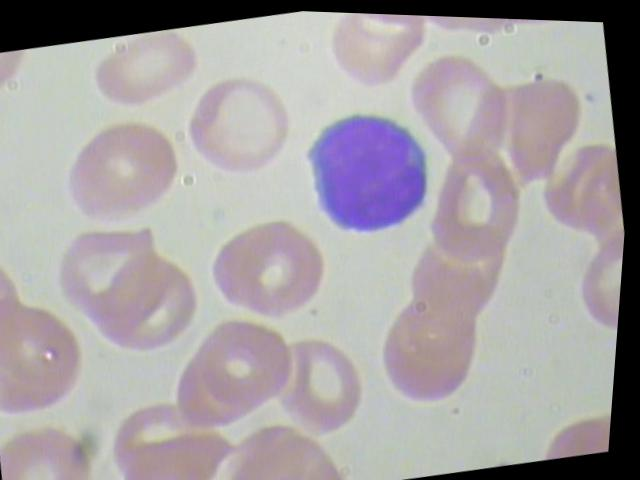Red Blood Cells: (197, 198, 351, 333), (50, 100, 202, 235), (360, 290, 513, 424), (50, 209, 187, 348), (394, 35, 532, 168), (413, 140, 550, 273), (175, 65, 310, 192), (54, 21, 205, 127), (268, 329, 389, 447), (187, 309, 308, 420), (0, 296, 104, 419), (314, 9, 446, 103), (1, 411, 120, 479)
White Blood Cells: (295, 98, 442, 248)
